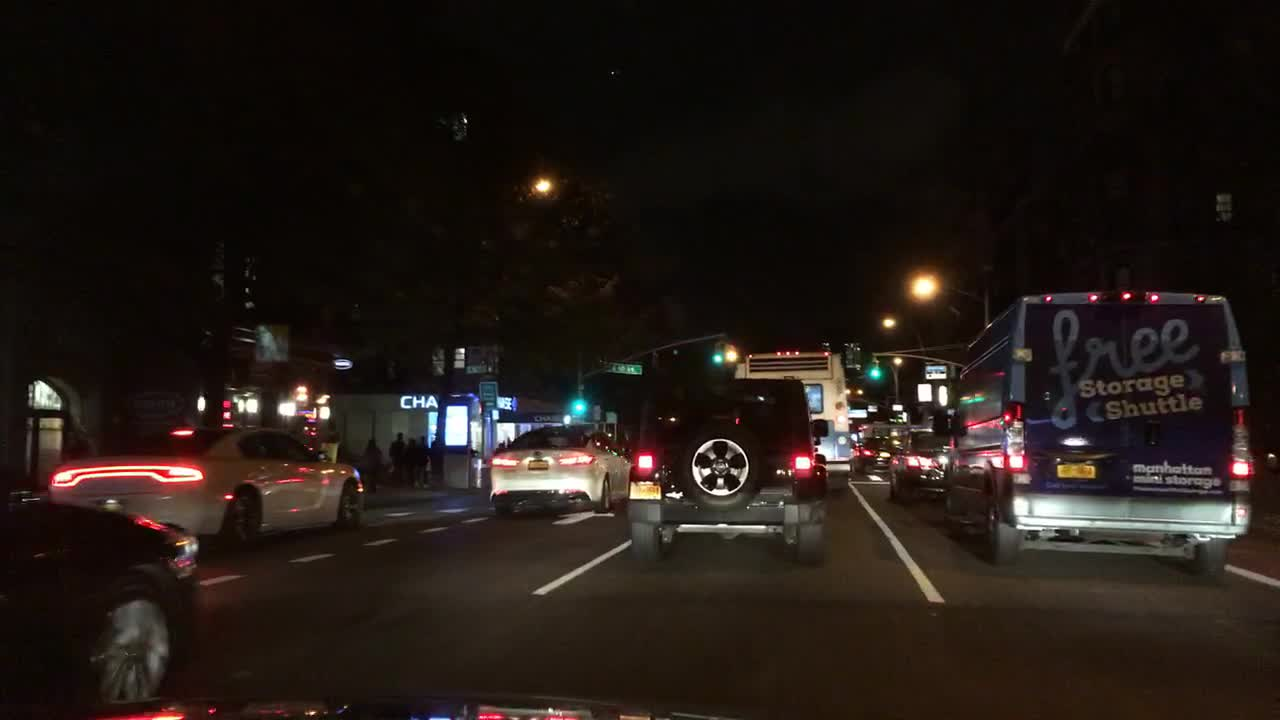bus: (733, 348, 851, 486)
car: (942, 293, 1252, 570), (1, 488, 199, 717), (48, 422, 366, 553), (625, 377, 830, 567), (486, 422, 632, 516), (886, 427, 952, 502), (851, 422, 901, 474)
person: (387, 428, 407, 486), (364, 437, 381, 490), (406, 435, 420, 486), (429, 434, 443, 484), (417, 434, 429, 486)
traffic light: (868, 361, 882, 382), (573, 397, 587, 416), (714, 341, 723, 365)
traffic sign: (480, 380, 496, 407), (608, 363, 641, 374), (916, 384, 930, 402), (927, 366, 945, 376), (465, 366, 486, 374), (847, 408, 865, 416), (868, 403, 879, 411), (893, 402, 902, 410)
